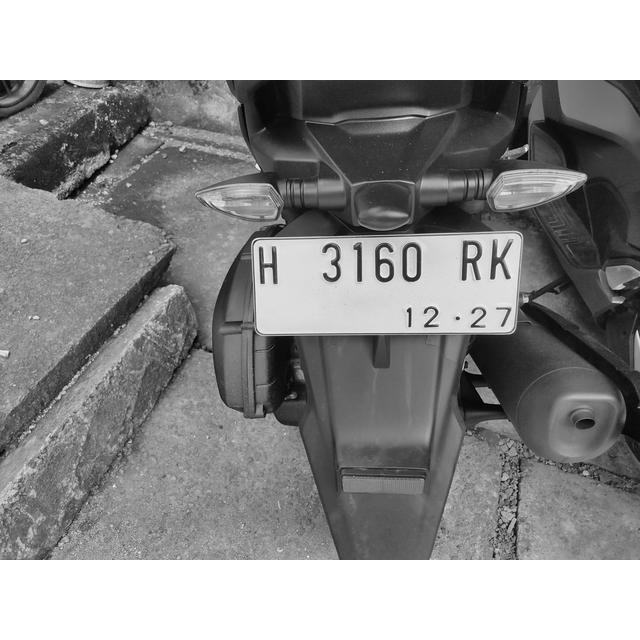license: (257, 237, 515, 330)
